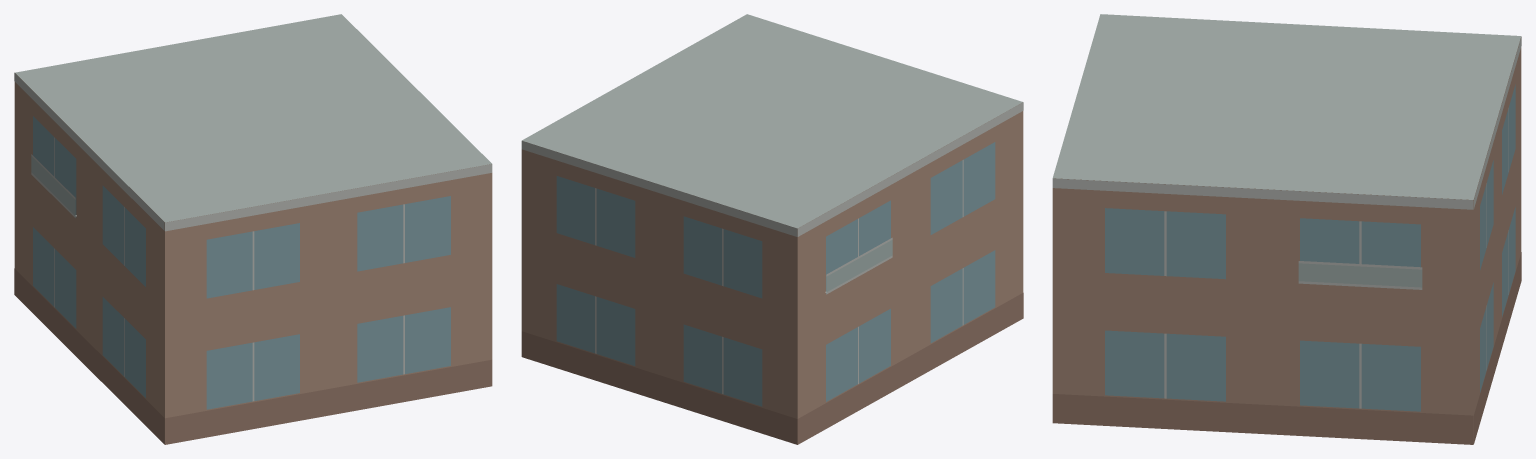
The model's file is residential-8161e47b-ae87-4975-b6d4-bad538d8c88d.glb.
3 views of the same model, side by side, from view 1: azimuth 30°, elevation 25°; view 2: azimuth 150°, elevation 25°; view 3: azimuth 270°, elevation 25° (orthographic). The views are drawn at different scales.
Visible parts, largest first — view 1: residential-8161e47b-ae87-4975-b6d4-bad538d8c88d.tmp; view 2: residential-8161e47b-ae87-4975-b6d4-bad538d8c88d.tmp; view 3: residential-8161e47b-ae87-4975-b6d4-bad538d8c88d.tmp.
Part boxes in pixels (x1,y1,x2,y2): residential-8161e47b-ae87-4975-b6d4-bad538d8c88d.tmp: (14, 14, 492, 444); residential-8161e47b-ae87-4975-b6d4-bad538d8c88d.tmp: (521, 14, 1023, 444); residential-8161e47b-ae87-4975-b6d4-bad538d8c88d.tmp: (1052, 14, 1521, 444).
Bounding box in the file's own units: 9.95 × 6.1 × 10.6.
